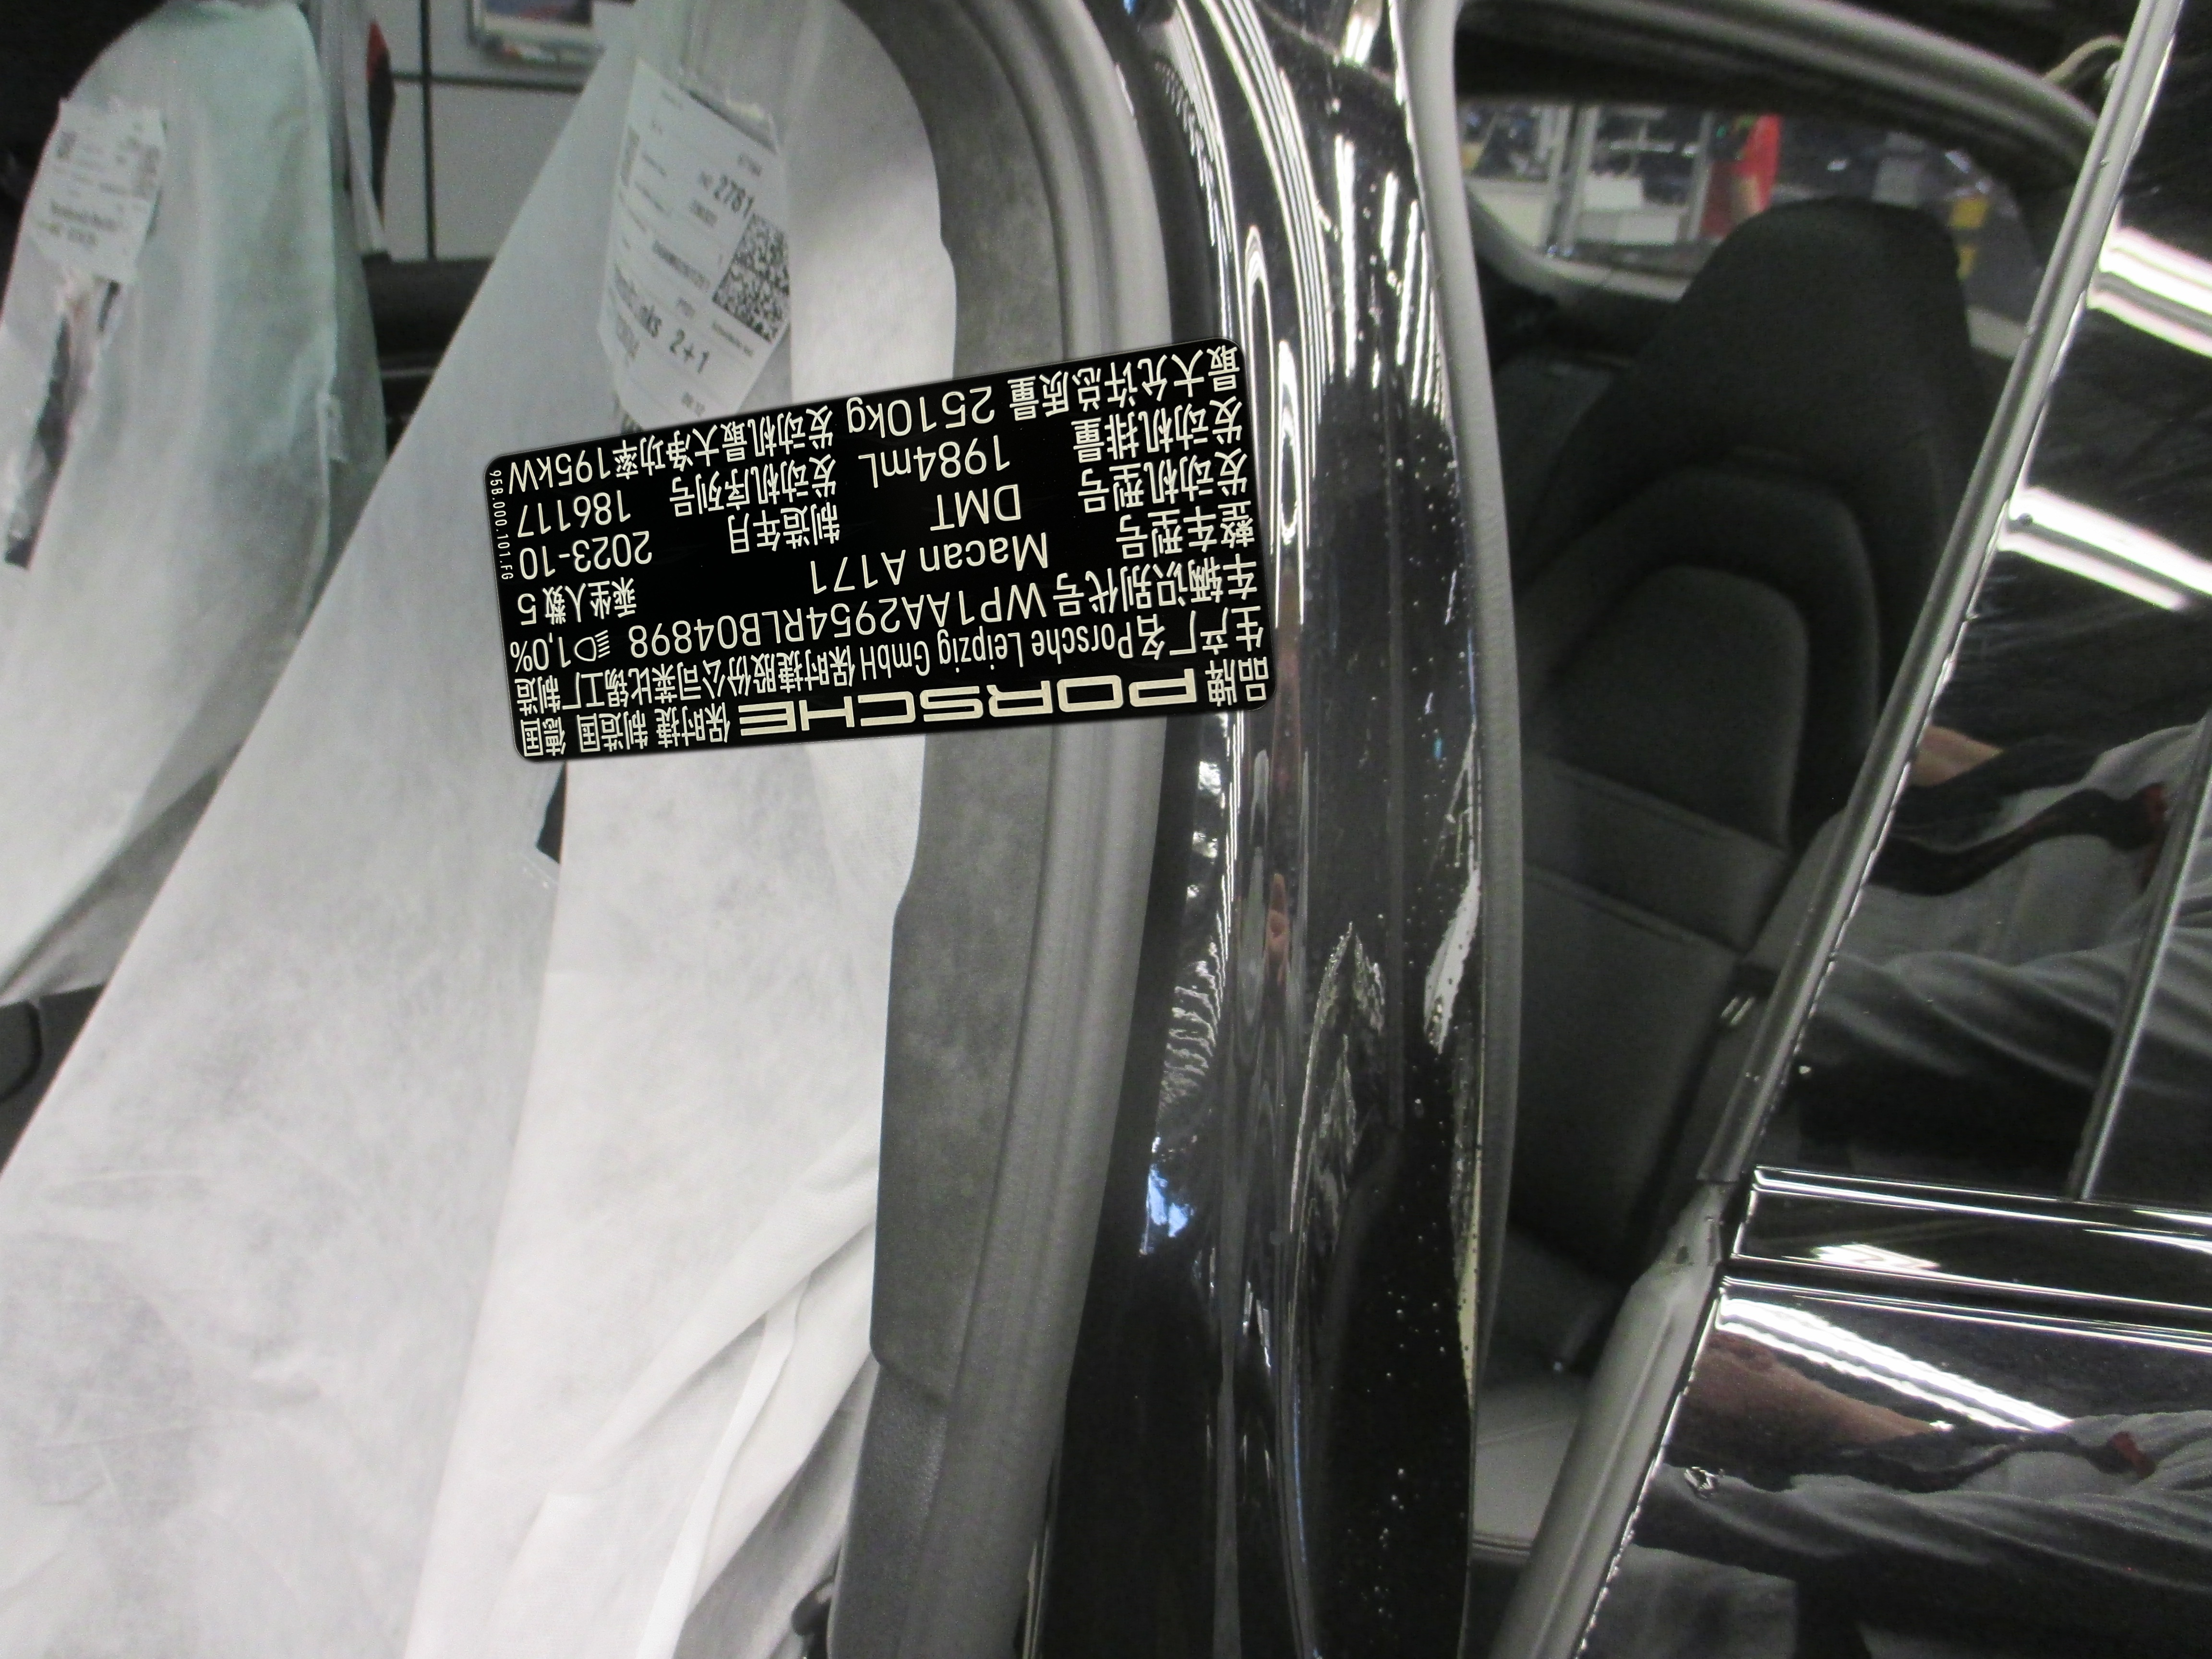Typlabel-China: (484, 338, 1275, 762)
